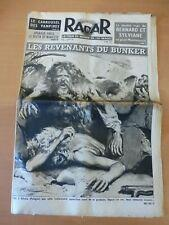paper: (12, 12, 164, 218)
